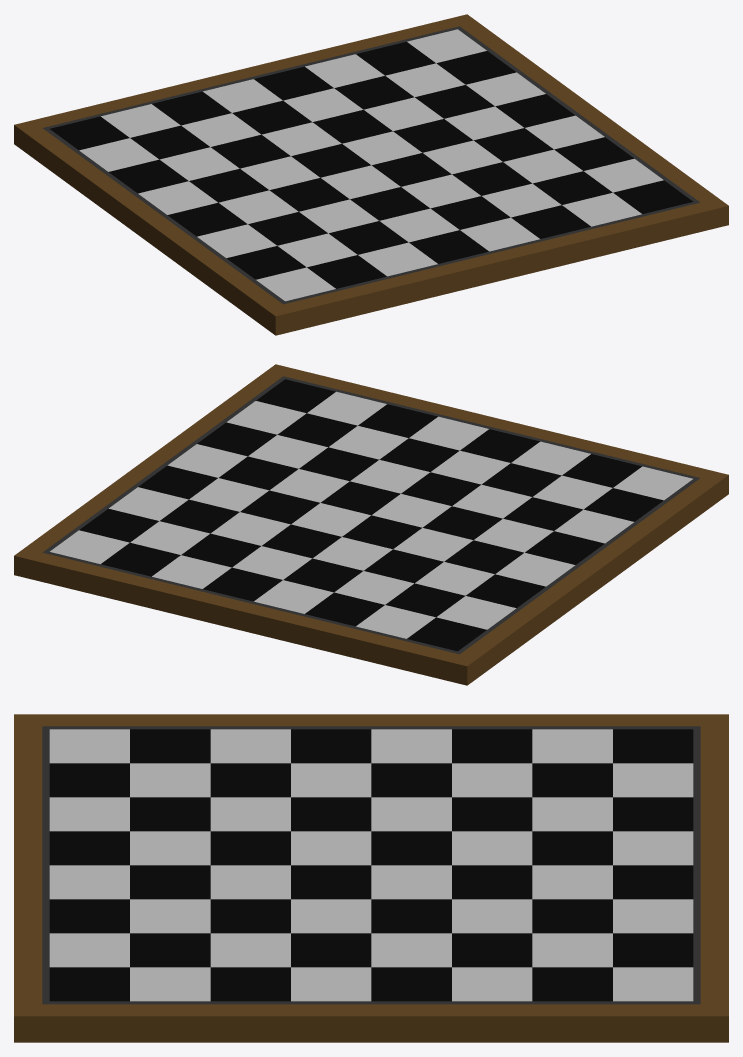
Rendered from SM_Chekerboard_Low.fbx.
3 renders of one model, top to bottom at view 1: azimuth 30°, elevation 25°; view 2: azimuth 150°, elevation 25°; view 3: azimuth 270°, elevation 25°, orthographic. The views are drawn at different scales.
Visible parts, largest first — view 1: SM_Chekerboard_Low; view 2: SM_Chekerboard_Low; view 3: SM_Chekerboard_Low.
Boxes of the visible parts, <box> form: SM_Chekerboard_Low: <box>14,14,728,335</box>; SM_Chekerboard_Low: <box>14,364,728,685</box>; SM_Chekerboard_Low: <box>14,714,728,1042</box>.
Size of the model in its own units: 44.41 by 1.81 by 44.41.
